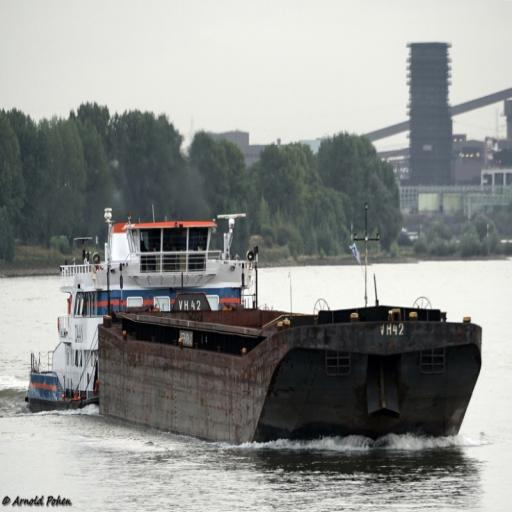tugboat: (22, 202, 265, 427)
